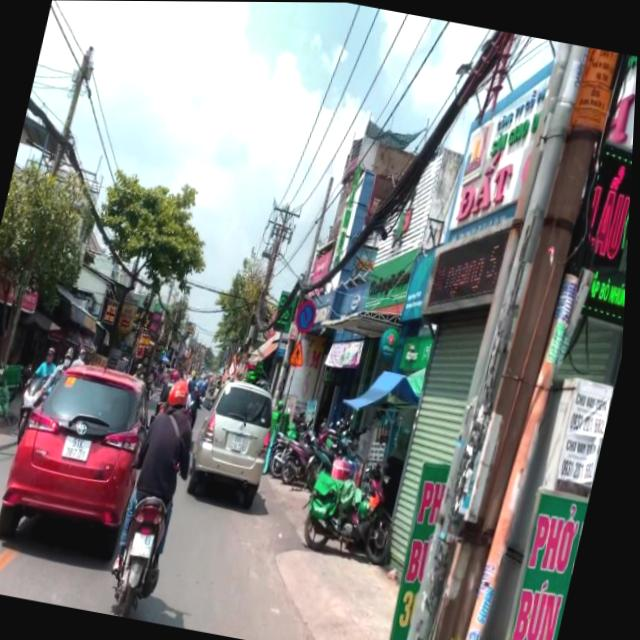Cam do xe: (295, 296, 323, 334)
Nguoi di bo cat ngang: (291, 337, 312, 367)
